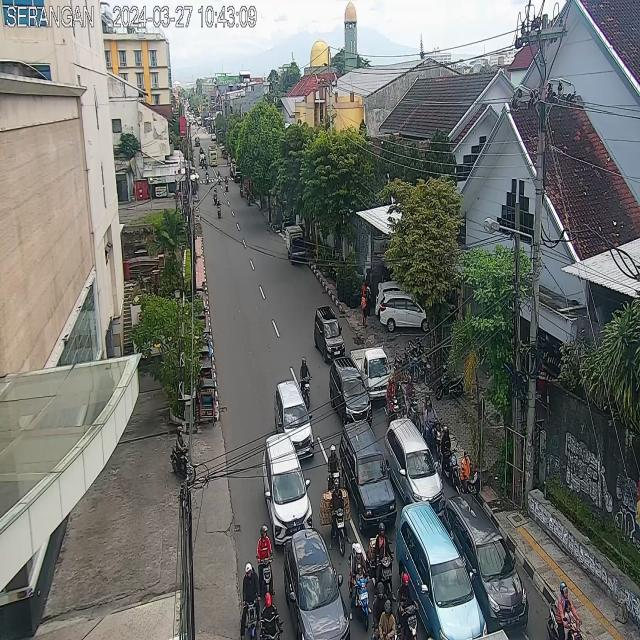car: (395, 502, 488, 640), (442, 494, 528, 633), (284, 528, 350, 640), (339, 421, 396, 527), (385, 419, 446, 514), (263, 434, 313, 541), (274, 379, 315, 459), (329, 359, 372, 428), (314, 307, 344, 361)
motorcycle: (543, 578, 586, 640), (322, 478, 351, 558), (368, 524, 394, 602), (348, 540, 370, 632), (396, 571, 422, 640), (254, 519, 276, 599), (238, 561, 260, 640), (437, 425, 460, 490), (372, 582, 395, 640), (259, 591, 285, 640), (324, 441, 344, 503), (457, 449, 479, 503), (404, 375, 422, 431), (421, 396, 440, 448), (299, 354, 312, 410), (384, 376, 398, 424), (392, 362, 404, 402), (216, 200, 222, 220), (245, 188, 251, 206), (239, 182, 244, 198), (224, 175, 229, 191), (213, 186, 217, 203), (205, 171, 210, 184), (217, 170, 221, 185)
truck: (351, 346, 390, 399), (286, 226, 304, 264)
